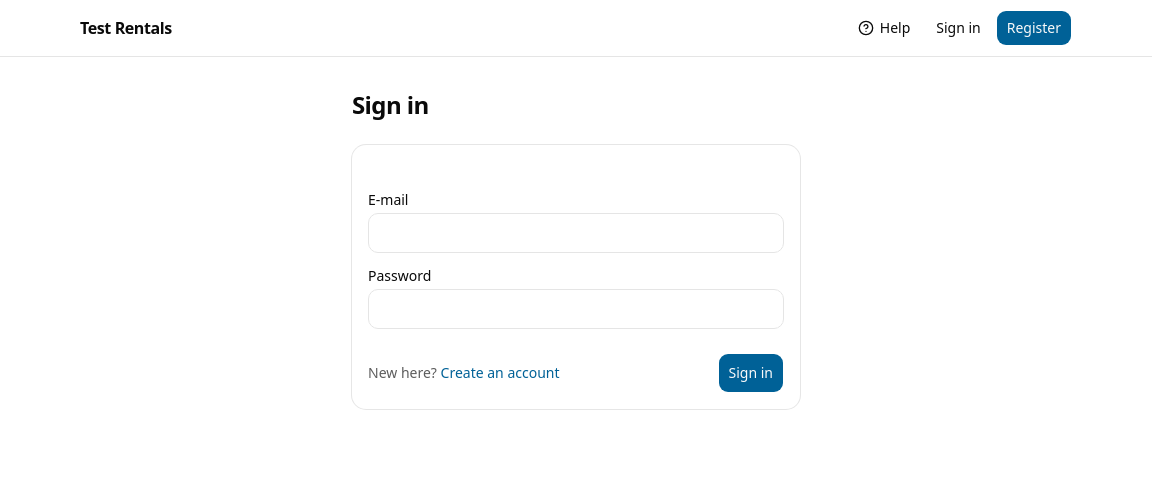
Sign in › validates the form before sending
Click the button "Sign in". click: x=751, y=373
box: x1=718 y1=353 x2=784 y2=393
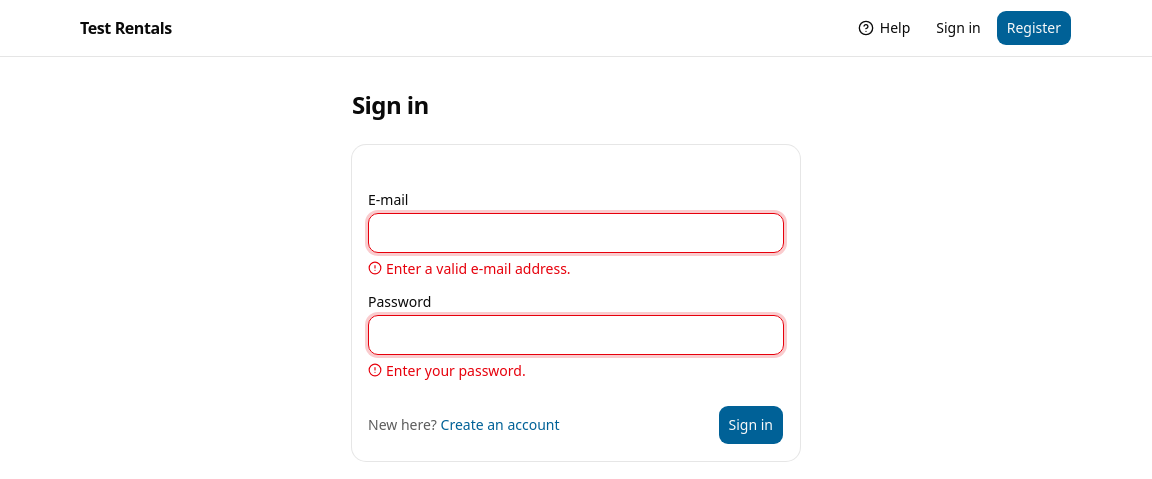
Result: the text "Enter a valid e-mail address." is shown at x1=386 y1=259 x2=571 y2=279
Result: the text "Enter your password." is shown at x1=386 y1=361 x2=526 y2=381
